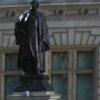Statue: (9, 0, 63, 87)
